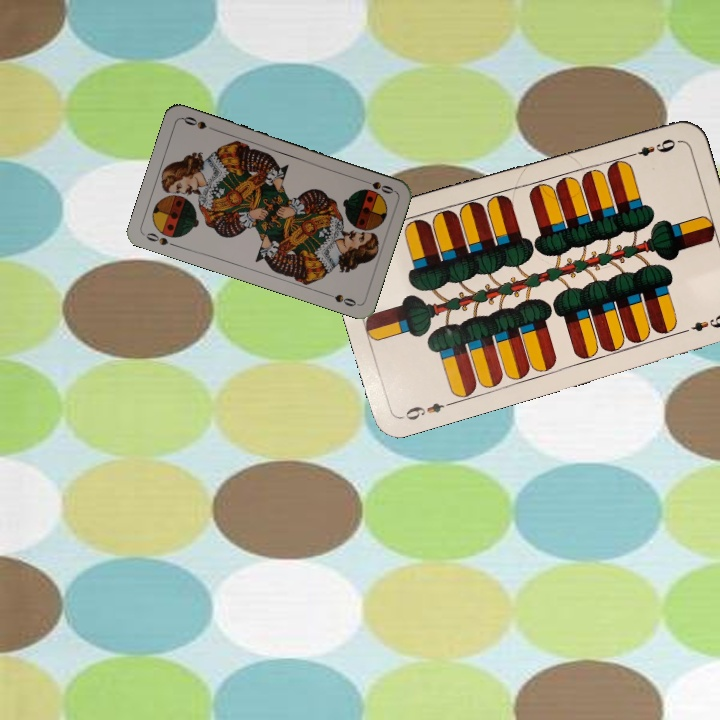E9: (623, 134, 681, 161), (398, 397, 456, 423)
SO: (357, 175, 396, 196), (142, 229, 180, 250)
